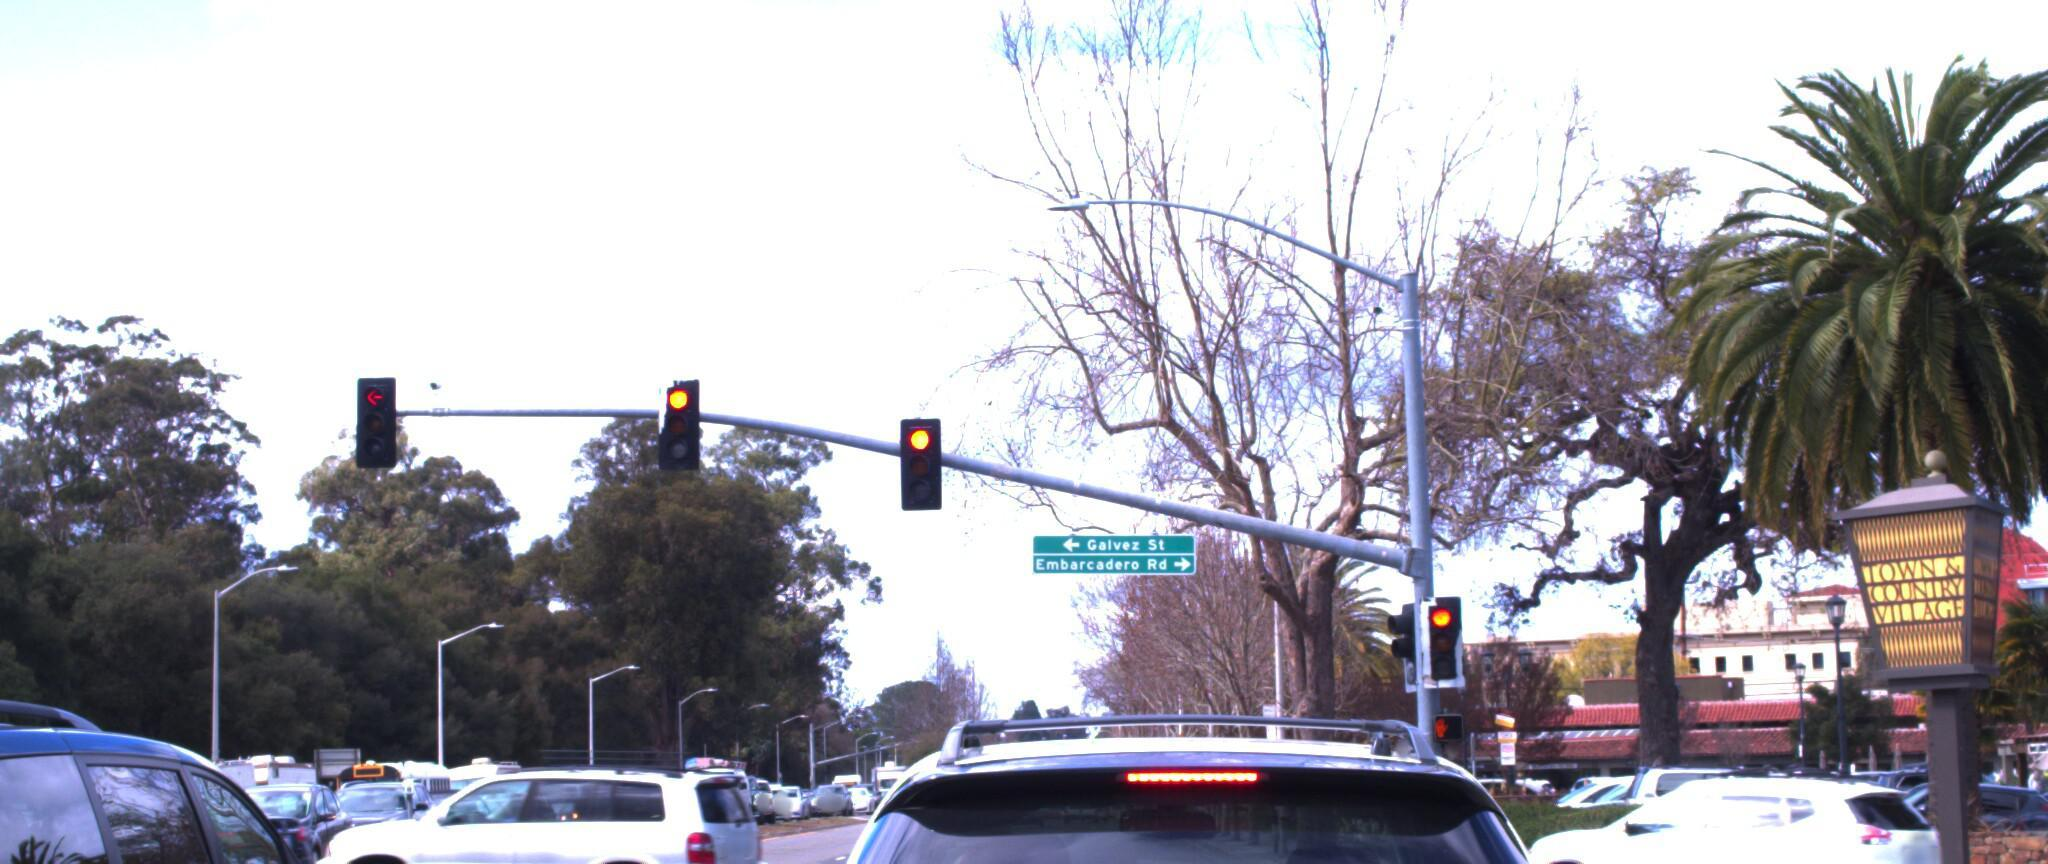car: (680, 677, 1728, 864), (0, 677, 445, 864), (287, 723, 789, 864), (1479, 747, 1962, 864), (0, 791, 353, 864)
other_vehicle: (0, 700, 98, 854)
